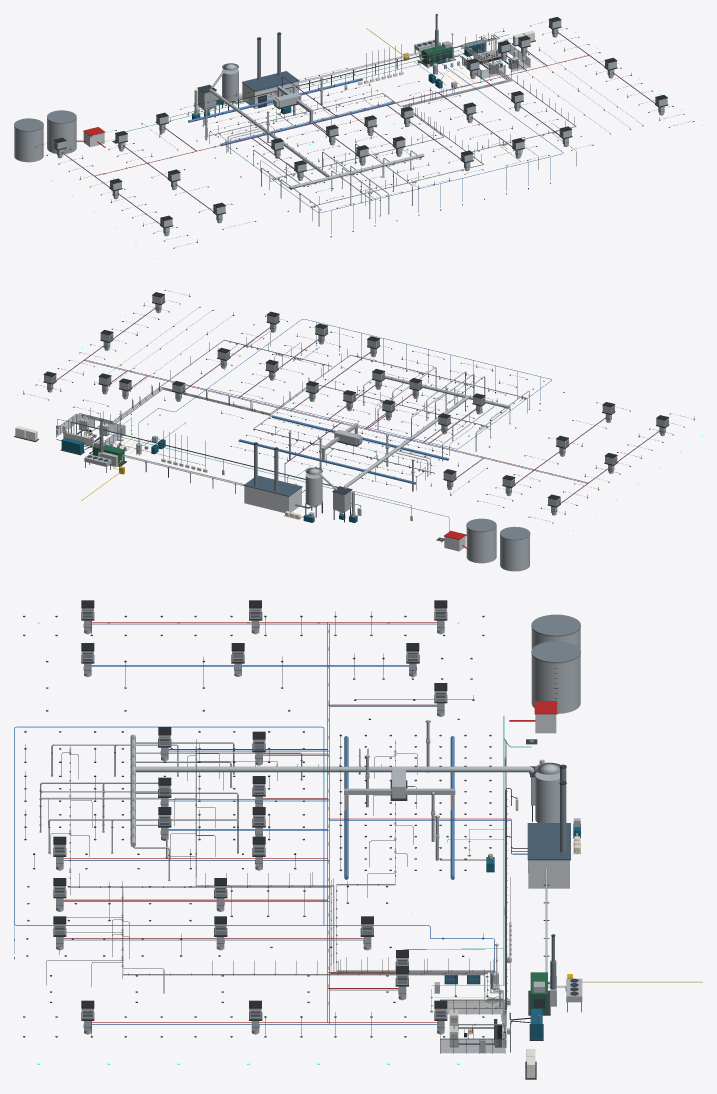
The model's file is engineering.glb.
3 views of the same model, one above another, from view 1: azimuth 30°, elevation 25°; view 2: azimuth 150°, elevation 25°; view 3: azimuth 270°, elevation 25° (orthographic). The views are drawn at different scales.
Parts seen in each view (by area): view 1: OUTSIDE, DUST, HEAT-NET, AHU-1, AIR-RING, CHP, BW-1, BW-2, BW-3, BW-4, Огородження електрощитової, WATER (+4 smaller); view 2: OUTSIDE, DUST, HEAT-NET, AHU-1, AIR-RING, BW-1, CHP, BW-2, BW-3, BW-4, CABLES, Огородження електрощитової (+2 smaller); view 3: OUTSIDE, HEAT-NET, DUST, AHU-1, Огородження електрощитової, CHP, AIR-RING, BW-4, BW-1, BW-2, WATER, BW-3.
Boxes of the visible parts, x1,y1,x2,y2 form: OUTSIDE: (14, 32, 299, 162); DUST: (192, 77, 424, 226); HEAT-NET: (61, 31, 655, 224); AHU-1: (188, 78, 394, 145); AIR-RING: (226, 57, 563, 237); CHP: (414, 14, 455, 66); BW-1: (310, 34, 511, 220); BW-2: (260, 34, 509, 189); BW-3: (204, 37, 507, 152); BW-4: (466, 33, 576, 169); Огородження електрощитової: (462, 44, 530, 79); WATER: (112, 50, 481, 145); OUTSIDE: (243, 442, 530, 571); DUST: (288, 367, 529, 522); HEAT-NET: (56, 306, 660, 503); AHU-1: (239, 415, 449, 484); AIR-RING: (158, 319, 551, 449); BW-1: (76, 349, 527, 434); CHP: (84, 419, 126, 472); BW-2: (84, 378, 489, 455); BW-3: (86, 383, 435, 490); BW-4: (73, 331, 332, 433); CABLES: (70, 421, 361, 515); Огородження електрощитової: (56, 414, 125, 445); OUTSIDE: (509, 614, 580, 888); HEAT-NET: (63, 622, 527, 1024); DUST: (39, 719, 544, 881); AHU-1: (344, 736, 455, 879); Огородження електрощитової: (440, 999, 505, 1053); CHP: (528, 934, 582, 1015); AIR-RING: (14, 726, 430, 959); BW-4: (46, 881, 503, 1027); BW-1: (48, 746, 503, 1000); BW-2: (170, 739, 503, 998); WATER: (403, 716, 537, 1012); BW-3: (336, 740, 503, 992).
Size of the model in its own units: 149 by 16.44 by 98.56.
